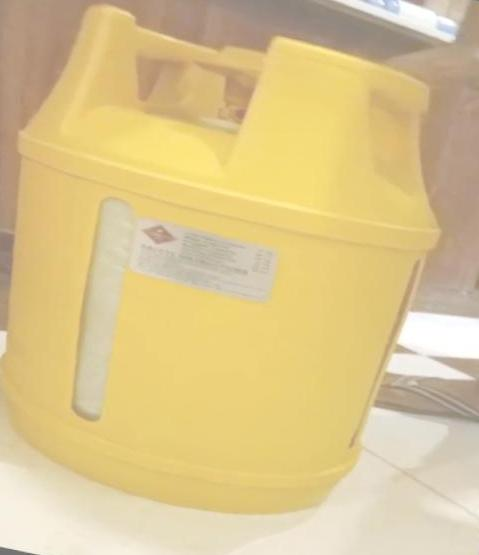cylinder: (1, 0, 479, 555)
